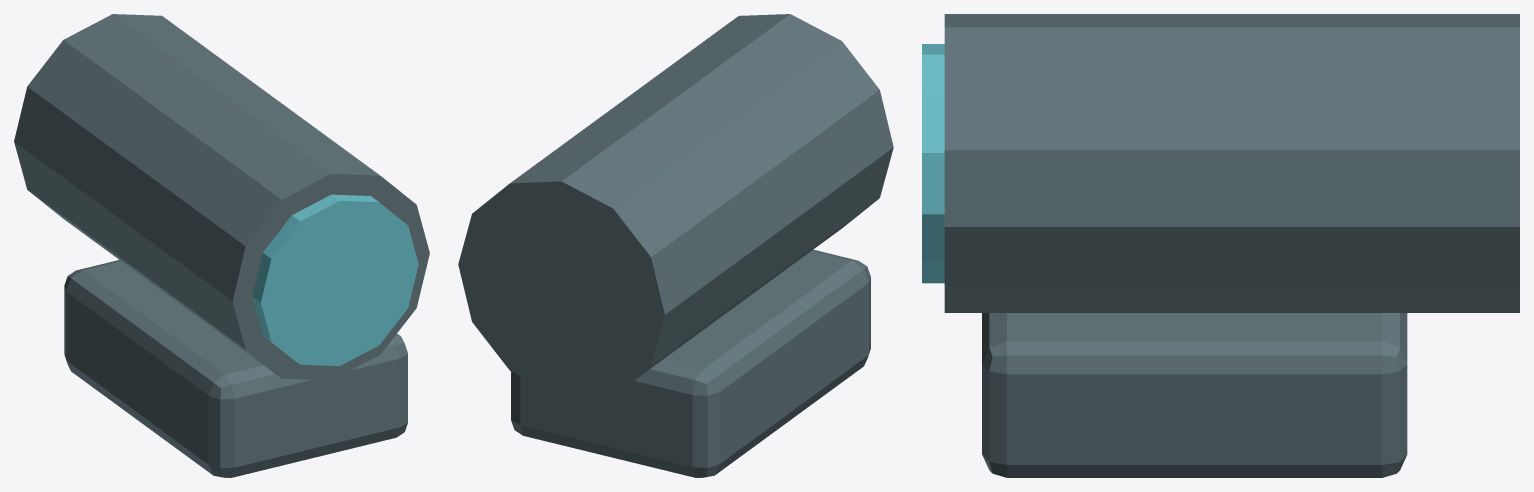
The model's file is optic.glb.
The picture shows the model from 3 angles, left to right: view 1: azimuth 30°, elevation 25°; view 2: azimuth 150°, elevation 25°; view 3: azimuth 270°, elevation 25°; orthographic projection. The views are drawn at different scales.
Parts seen in each view (by area): view 1: Scope tube, Rail mount, Lens; view 2: Scope tube, Rail mount; view 3: Scope tube, Rail mount, Lens.
Part boxes in pixels (x1,y1,x2,y2): Scope tube: (14, 14, 429, 380); Rail mount: (64, 260, 407, 477); Lens: (252, 194, 418, 366); Scope tube: (458, 14, 893, 397); Rail mount: (511, 249, 870, 477); Scope tube: (944, 14, 1519, 312); Rail mount: (982, 313, 1407, 477); Lens: (922, 44, 944, 283).
Size of the model in its own units: 0.12 by 0.175 by 0.239.
